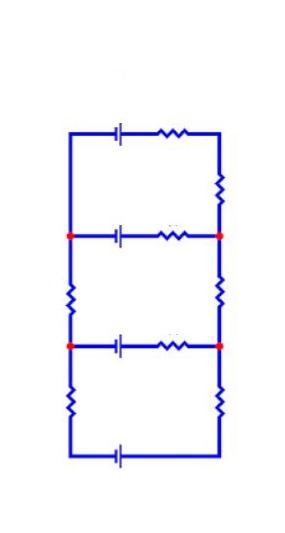resistor: (149, 114, 205, 152), (52, 369, 81, 428), (204, 369, 234, 426), (206, 258, 237, 313), (150, 216, 198, 248), (208, 158, 238, 206), (144, 327, 192, 353)
